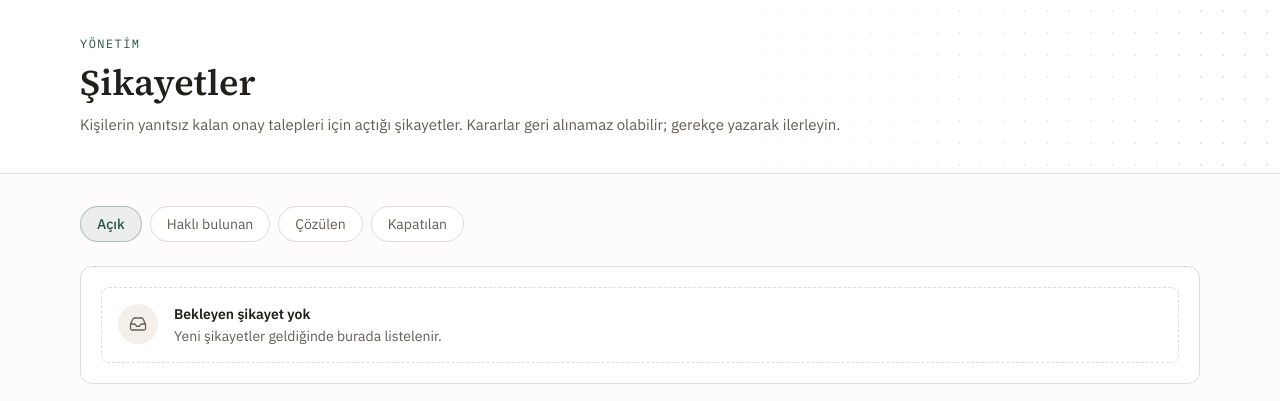
AdminSikayetlerPage › status tabs: open queue by default, a tab filters by status and resets paging
Click the tab "Haklı bulunan": [210, 224] box top-left (150, 206), bottom-right (270, 242)
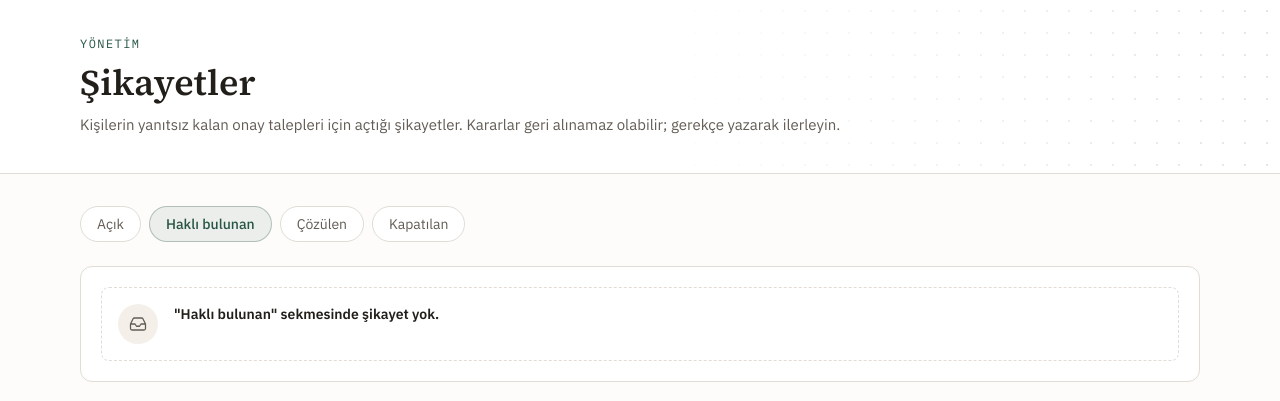
Now the text "\"Haklı bulunan\" sekmesinde şikayet yok." is shown, box top-left (174, 304), bottom-right (439, 324)
